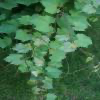grape leaf: (27, 14, 56, 32), (67, 10, 92, 27), (71, 33, 94, 49), (37, 0, 63, 14), (0, 19, 22, 34), (11, 29, 34, 42), (2, 53, 24, 66), (45, 66, 64, 79), (49, 49, 68, 62), (7, 43, 29, 53), (72, 21, 90, 31), (30, 68, 43, 79), (27, 79, 38, 86)
